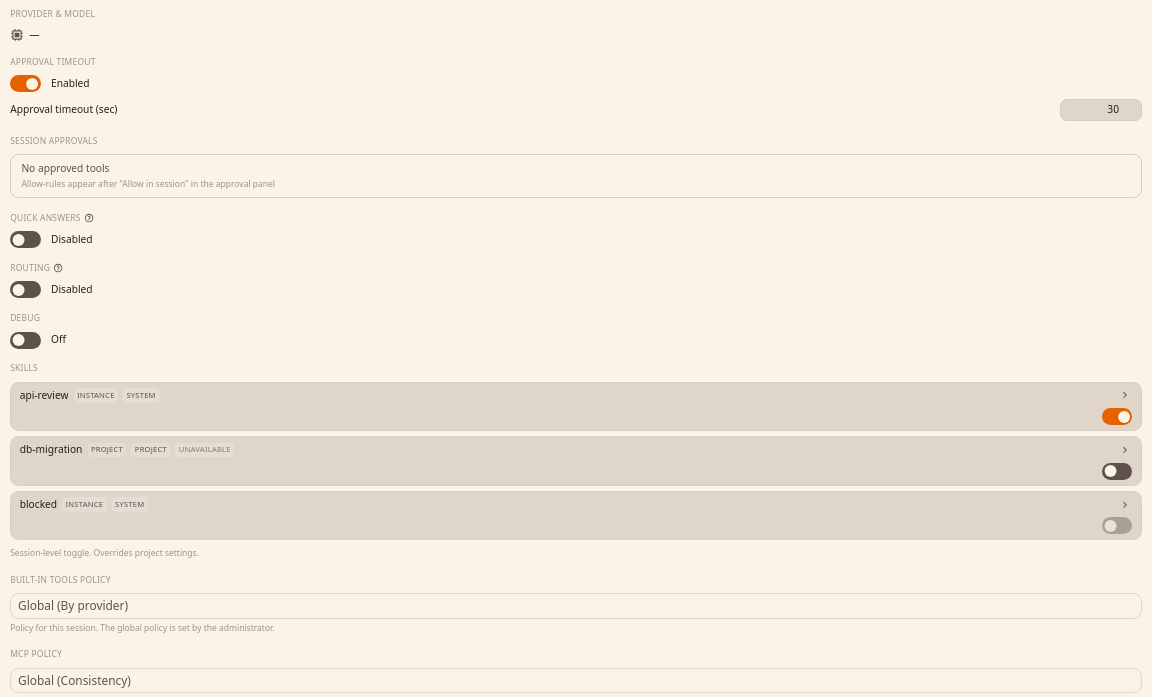
Test: SessionSettingsTab — скиллы сессии (ADR-046 §4.5) › рендерит список с уровнем/scope, unavailable и причиной system-disable
Expected: the element with test id "session-skills-list" is shown, [10,382,1142,540]
Expected: the element with test id "session-skill-api-review" shows "api-review", [20,388,68,402]
Click the button with test id "session-skill-blocked-details-toggle". click: [1125, 505]
box: [1117,497,1132,512]
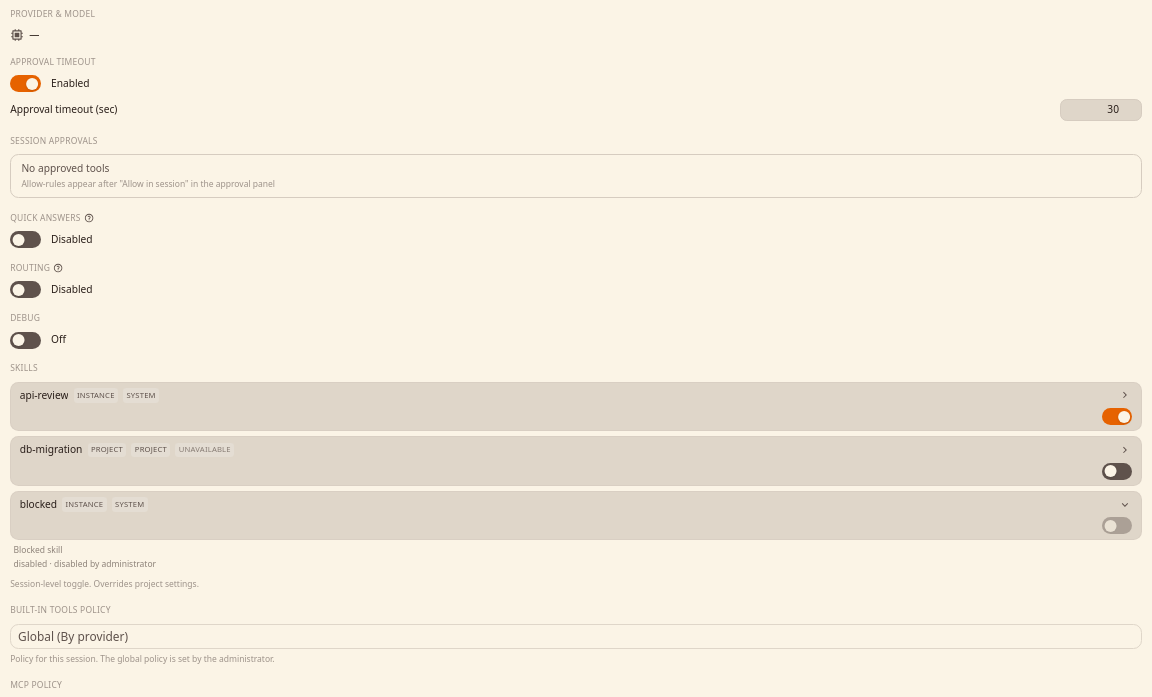
Now the element with test id "session-skill-blocked-details-content" shows "disabled by administrator", box [14,558,156,569]
